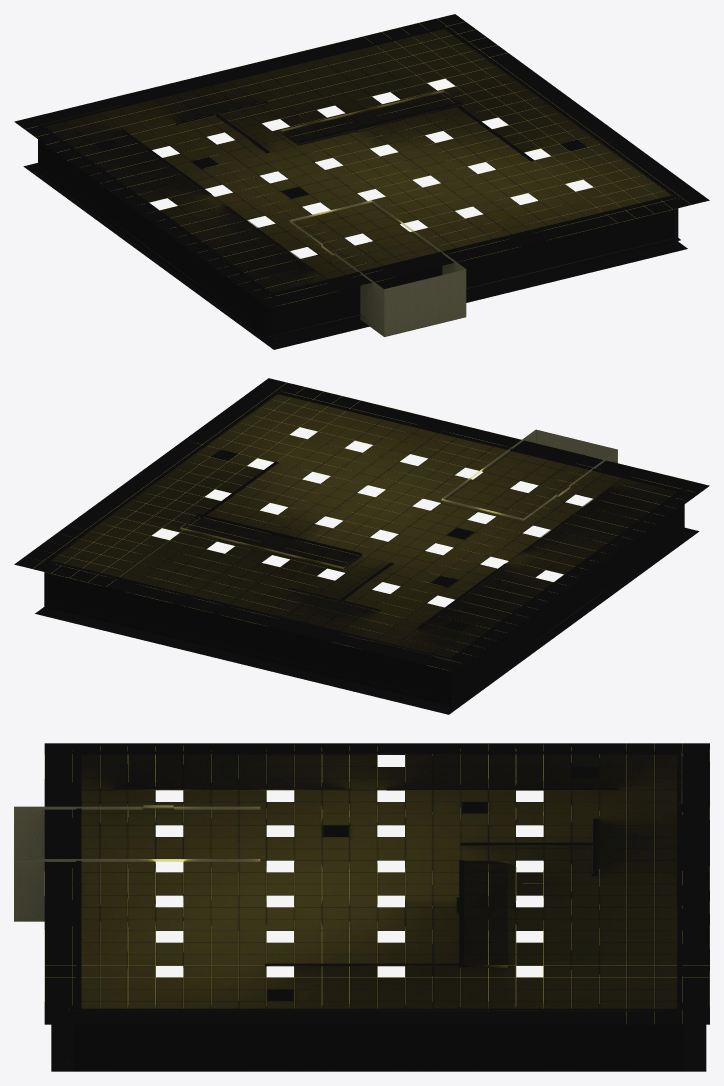
File: backrooms.glb
The picture shows the model from 3 angles, top to bottom: view 1: azimuth 30°, elevation 25°; view 2: azimuth 150°, elevation 25°; view 3: azimuth 270°, elevation 25°; orthographic projection. The views are drawn at different scales.
Parts seen in each view (by area): view 1: Ceiling_6, BackWall_Double_BR.028_3, Air_Vent.005_5, Piece1_2, Carpet_v1.001_4; view 2: Ceiling_6, BackWall_Double_BR.028_3, Air_Vent.005_5, Carpet_v1.001_4, Piece1_2; view 3: Ceiling_6, BackWall_Double_BR.028_3, Air_Vent.005_5, Piece1_2, Carpet_v1.001_4.
Boxes of the visible parts, box(x1,y1,x2,y2) form: Ceiling_6: box(14, 14, 709, 307); BackWall_Double_BR.028_3: box(37, 26, 680, 341); Air_Vent.005_5: box(25, 18, 691, 305); Piece1_2: box(290, 200, 466, 336); Carpet_v1.001_4: box(23, 163, 687, 349); Ceiling_6: box(14, 378, 709, 671); BackWall_Double_BR.028_3: box(44, 389, 687, 706); Air_Vent.005_5: box(33, 383, 699, 670); Carpet_v1.001_4: box(35, 527, 699, 714); Piece1_2: box(441, 429, 617, 520); Ceiling_6: box(44, 743, 709, 1024); BackWall_Double_BR.028_3: box(68, 751, 683, 1071); Air_Vent.005_5: box(44, 743, 709, 1023); Piece1_2: box(14, 805, 260, 921); Carpet_v1.001_4: box(51, 1024, 706, 1071).
Size of the model in its own units: 27.36 by 2.87 by 28.62.
Materials: 11 (9 with a texture image).
